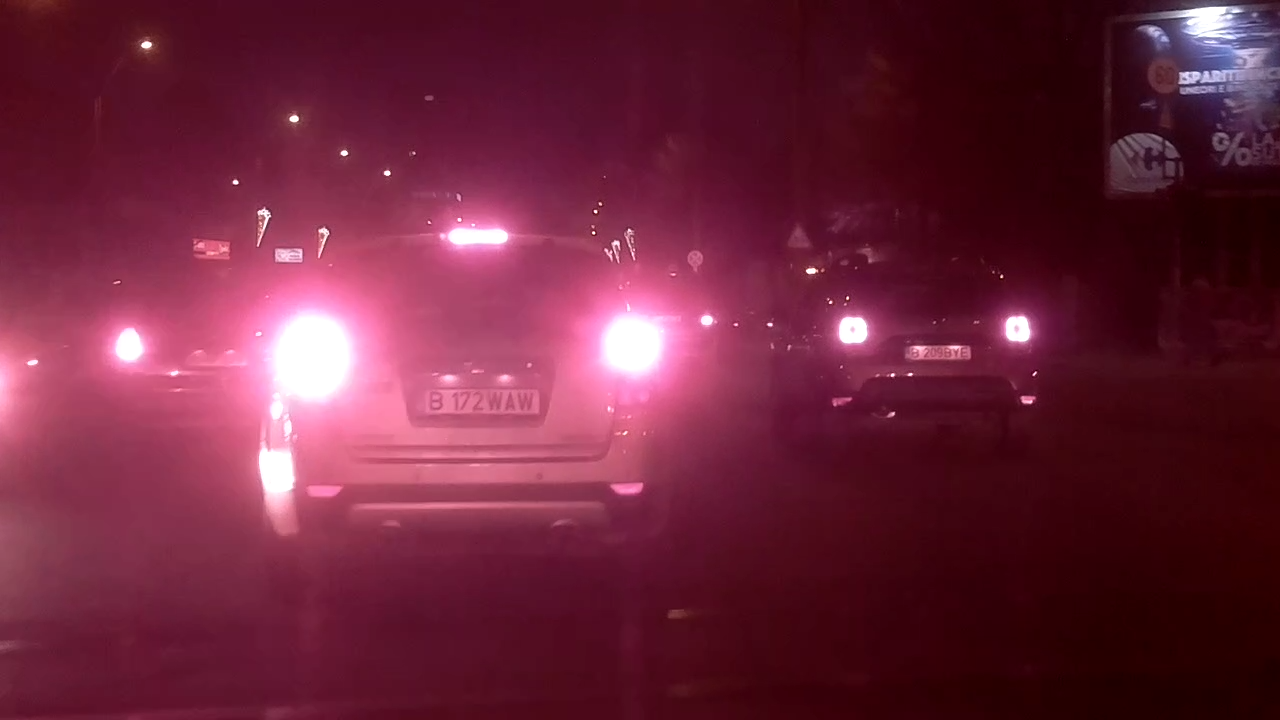license-plate: (408, 385, 544, 419), (898, 341, 975, 363)
